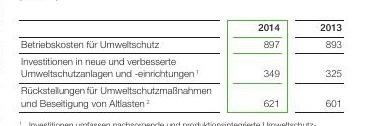table: (0, 0, 370, 126)
